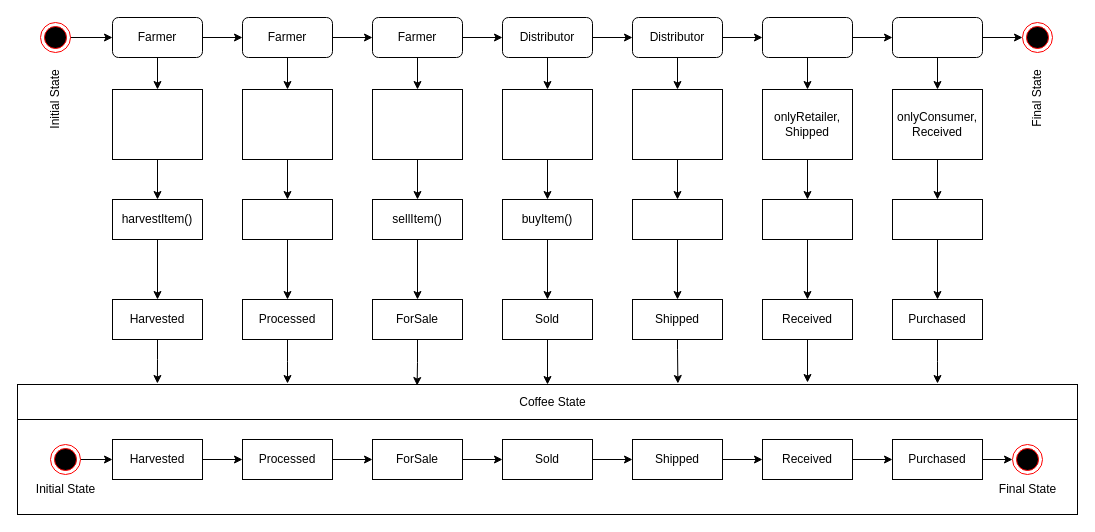
Image size: 1095x532. Some labels were removed from this diagram. The centre of each missing label's shape, as x and y in pixels:
"Consmer" belongs at (x=937, y=37).
"onlyDistributor, ForSale" belongs at (x=547, y=124).
"onlyDistributor, Sold" belongs at (x=677, y=124).
"onlyFarmer" belongs at (x=157, y=124).
"onlyFarmer, Harvested" belongs at (x=287, y=124).
"onlyFarmer, Packed" belongs at (x=417, y=124).
"processItem()" belongs at (x=287, y=219).
"purchaseItem()" belongs at (x=937, y=219).
"receiveItem()" belongs at (x=807, y=219).
"Retailer" belongs at (x=807, y=37).
"shipItem()" belongs at (x=677, y=219).
